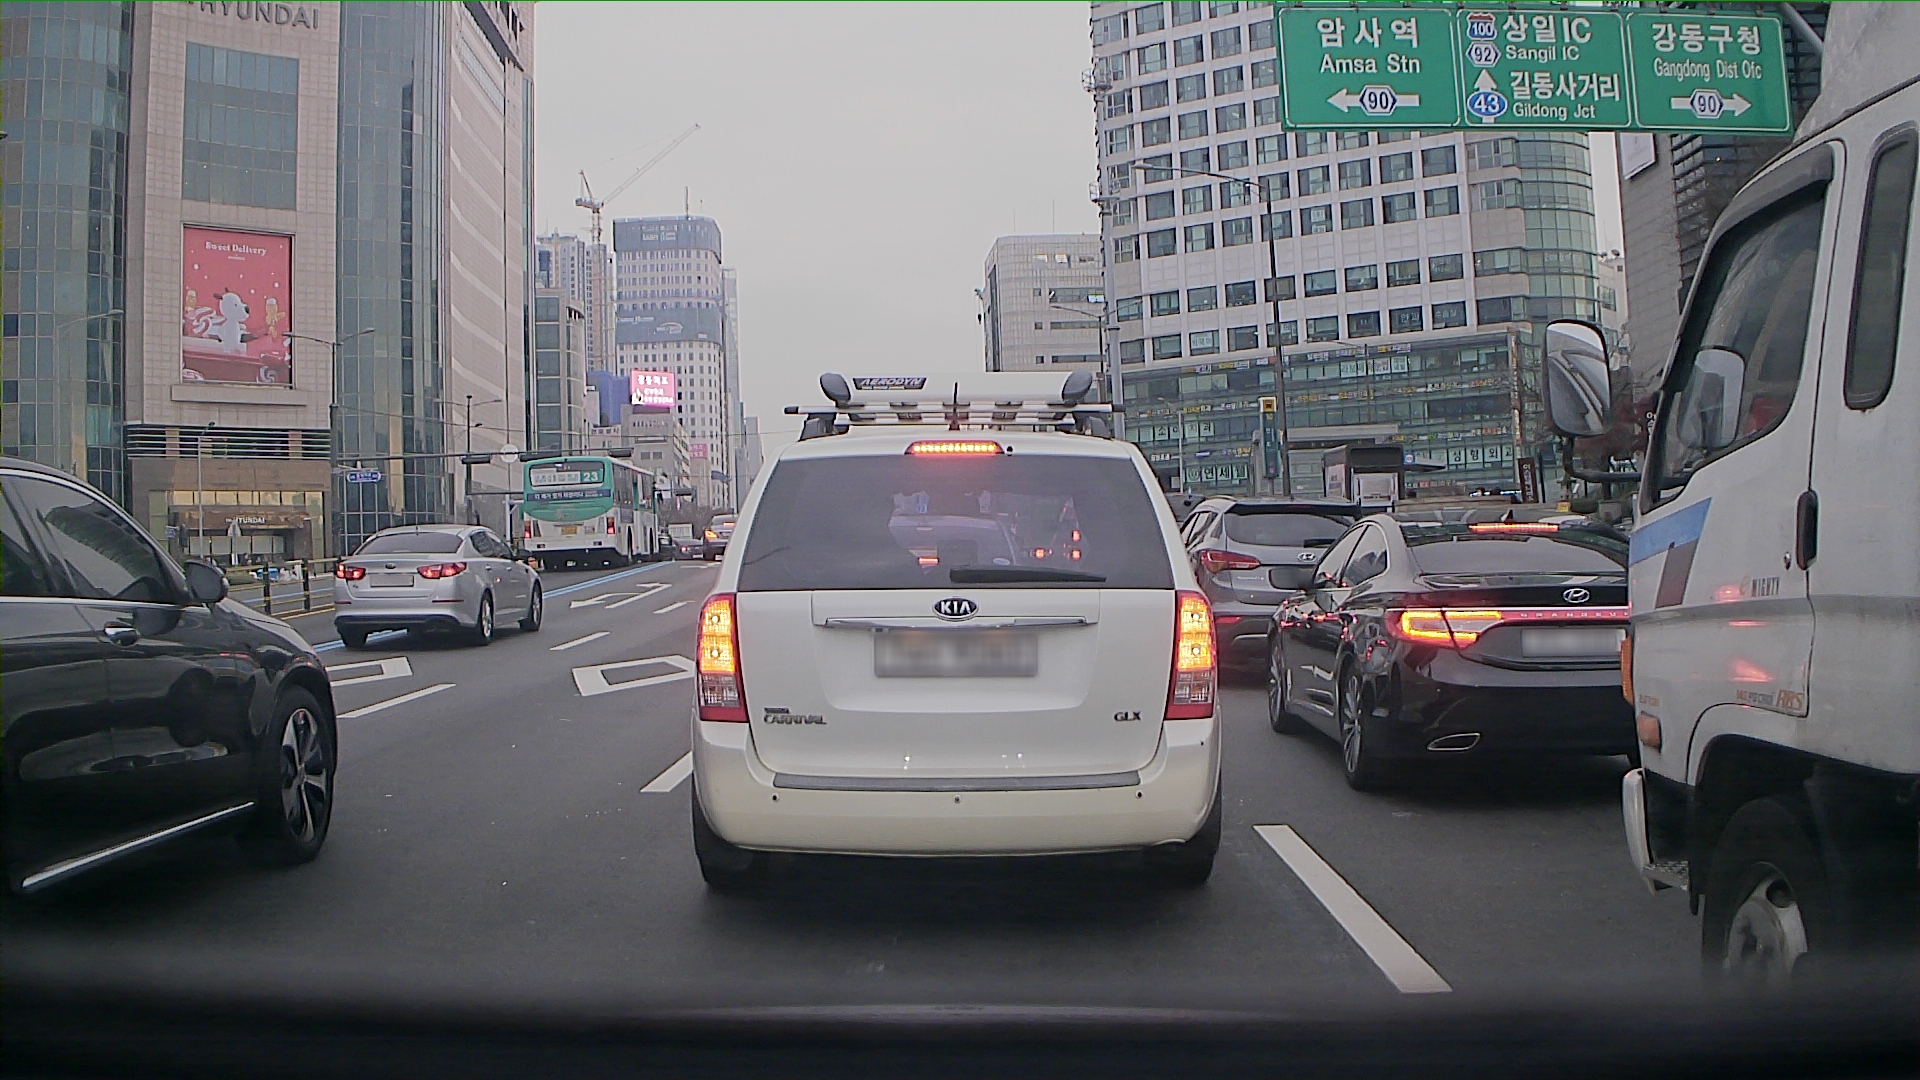closingCar: (688, 371, 1218, 903)
